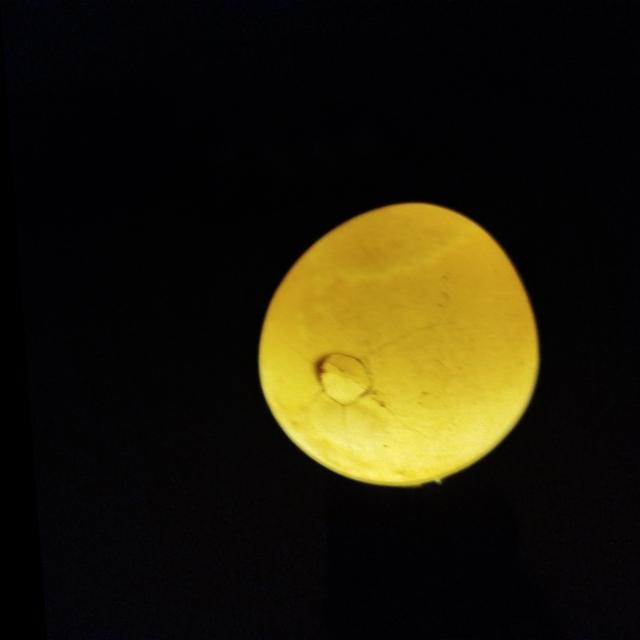Camara de Ar: (299, 203, 469, 278)
Rachadura: (285, 331, 405, 430)
